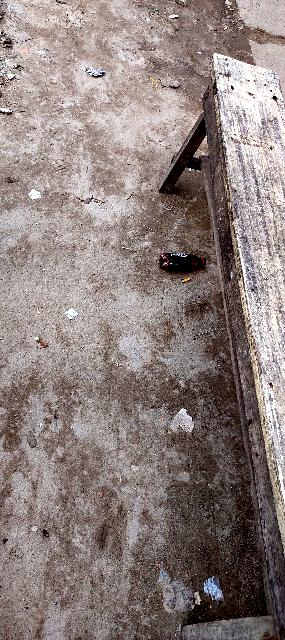bottle: (150, 221, 216, 287)
